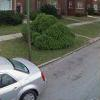Car: (1, 47, 58, 100)
